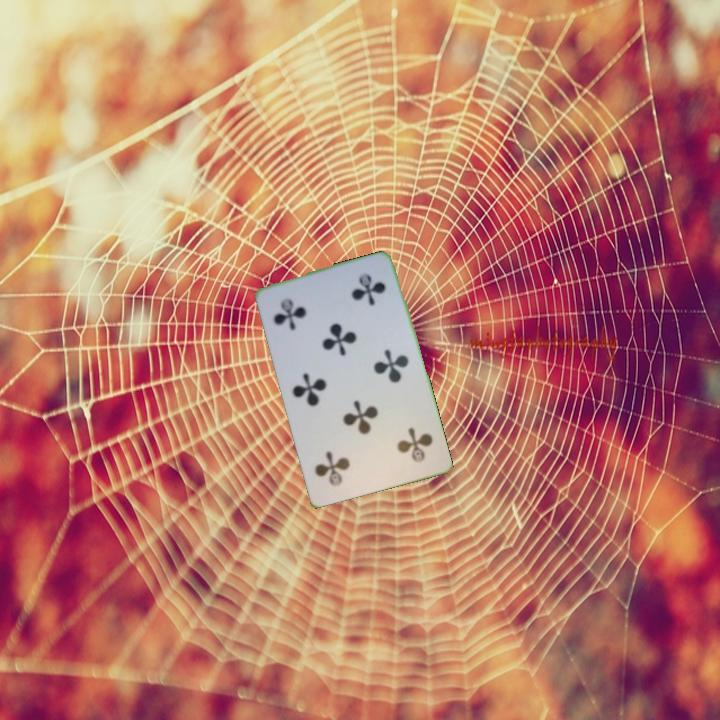c_8.png: (264, 276, 343, 348), (363, 408, 441, 480)
